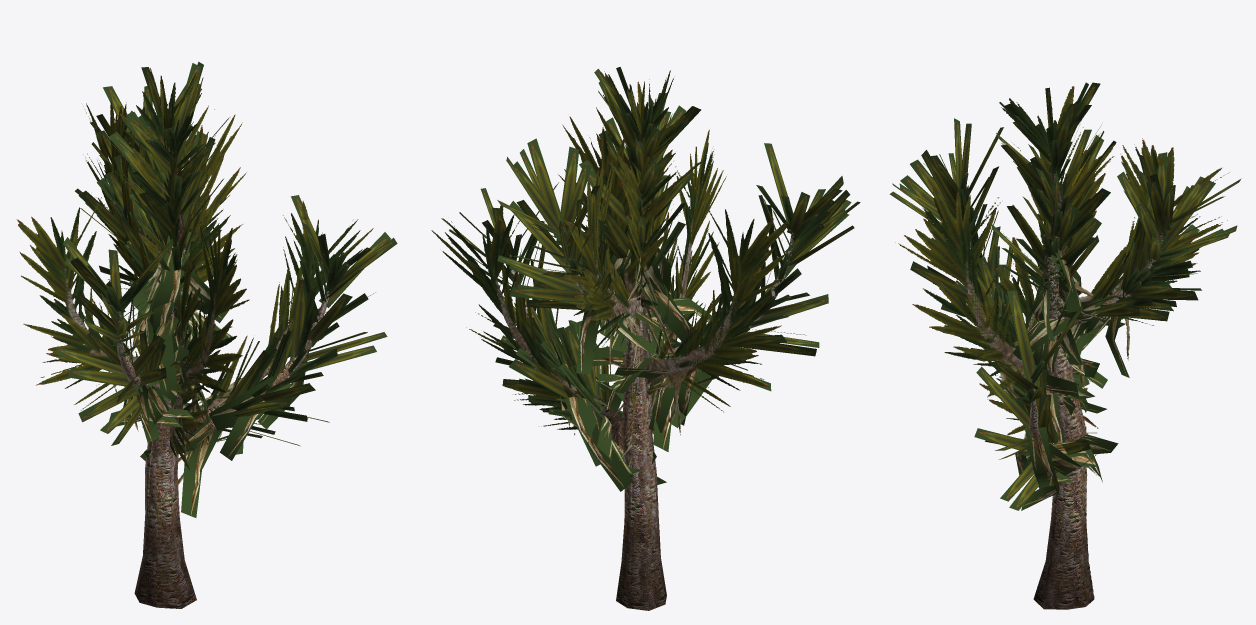
File: Yucca2.fbx
3 views of the same model, side by side, from view 1: azimuth 30°, elevation 25°; view 2: azimuth 150°, elevation 25°; view 3: azimuth 270°, elevation 25° (orthographic).
Parts seen in each view (by area): view 1: LOD0, Billboard; view 2: LOD0, Billboard; view 3: LOD0, Billboard.
Part boxes in pixels (bbox=[...]): LOD0: bbox=[57, 61, 397, 608]; Billboard: bbox=[16, 68, 373, 570]; LOD0: bbox=[441, 67, 860, 610]; Billboard: bbox=[431, 70, 788, 606]; LOD0: bbox=[889, 82, 1241, 609]; Billboard: bbox=[895, 86, 1229, 597].
Size of what is drawn, in the model's own units: 205 by 279 by 172.
